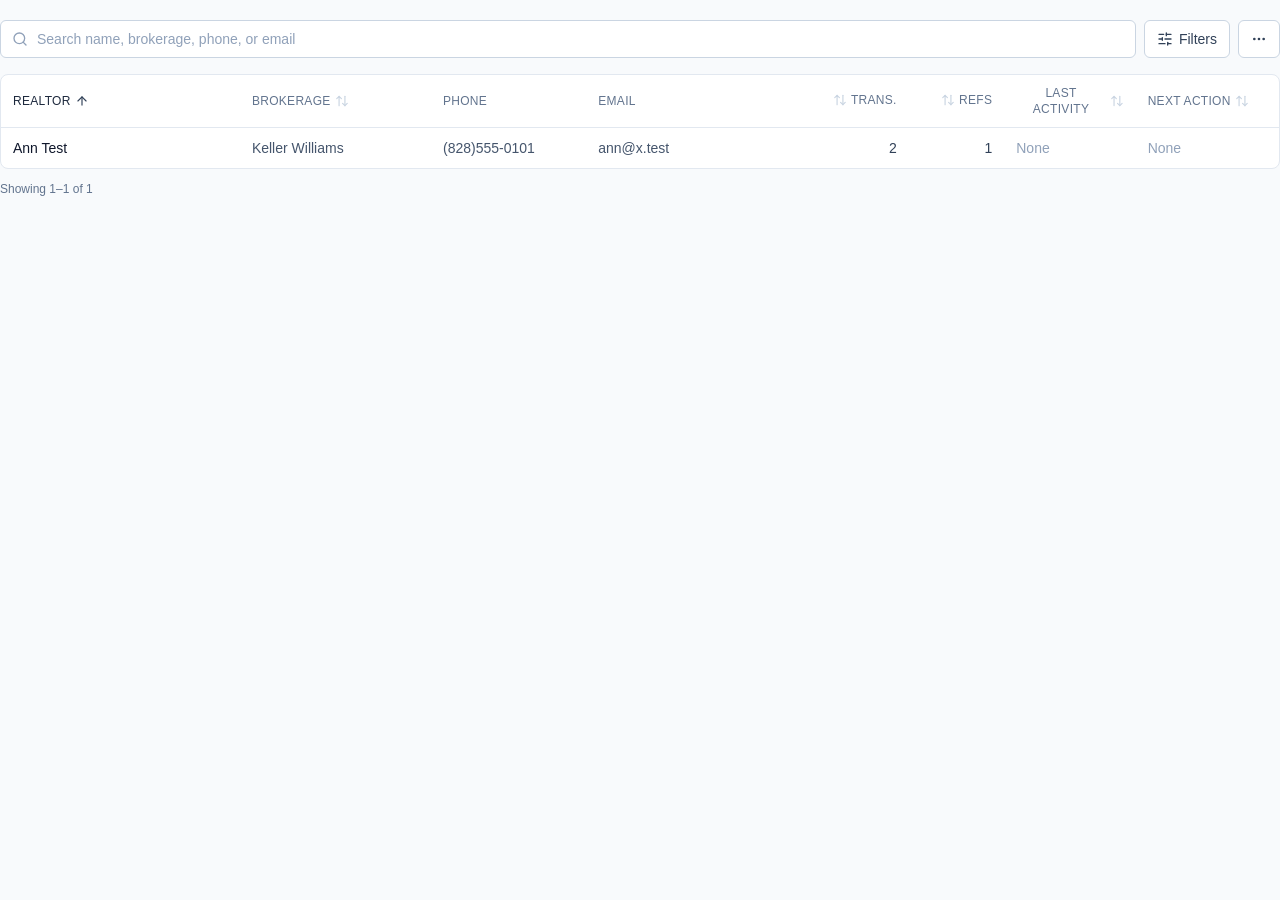
Scenario: customize directory layout › closes with Escape and returns focus to the ••• button
Click the button named "More directory options".
click(1259, 39)  # box 1238,20 -> 1279,58
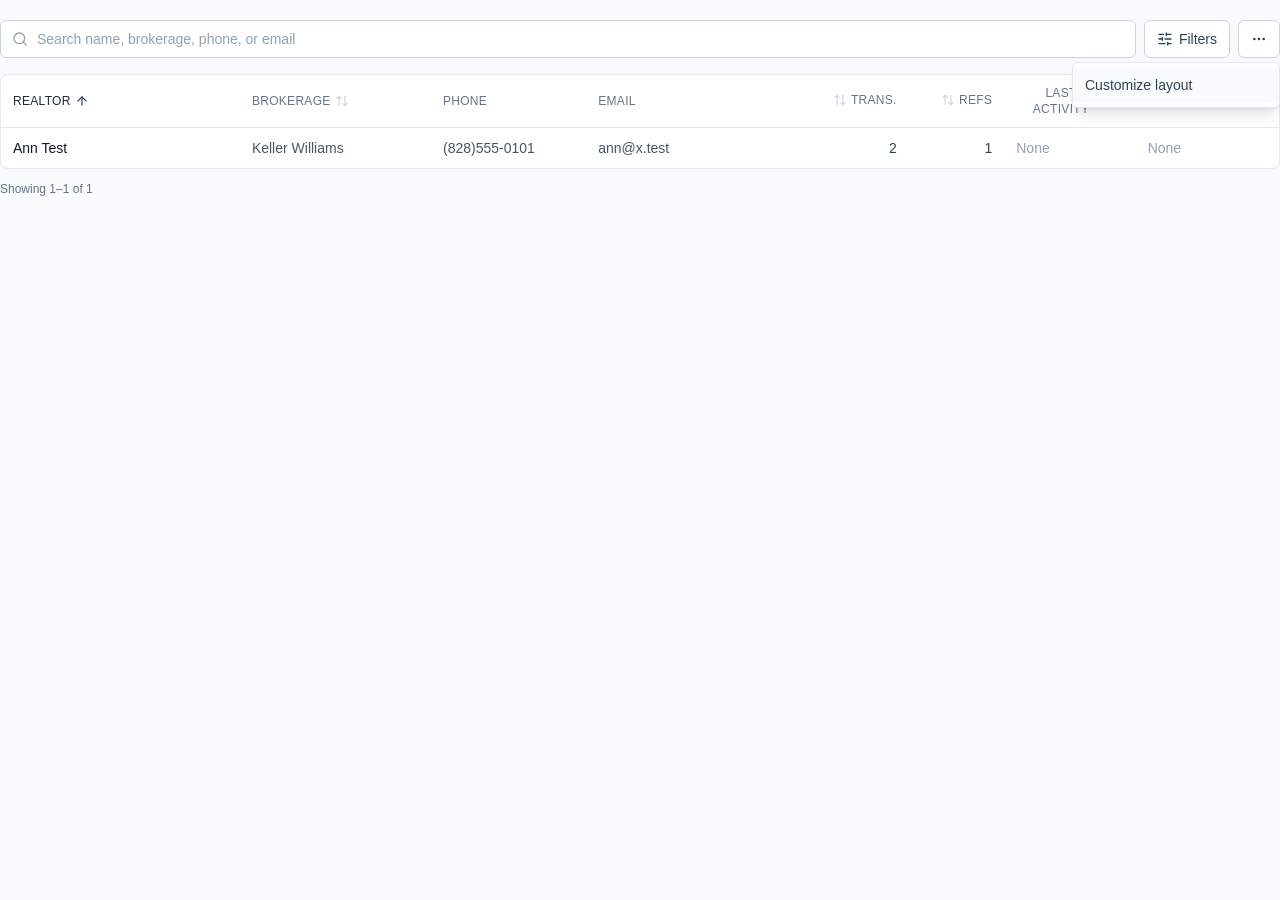
Click the menu item "Customize layout".
click(1176, 85)  # box 1073,67 -> 1279,103
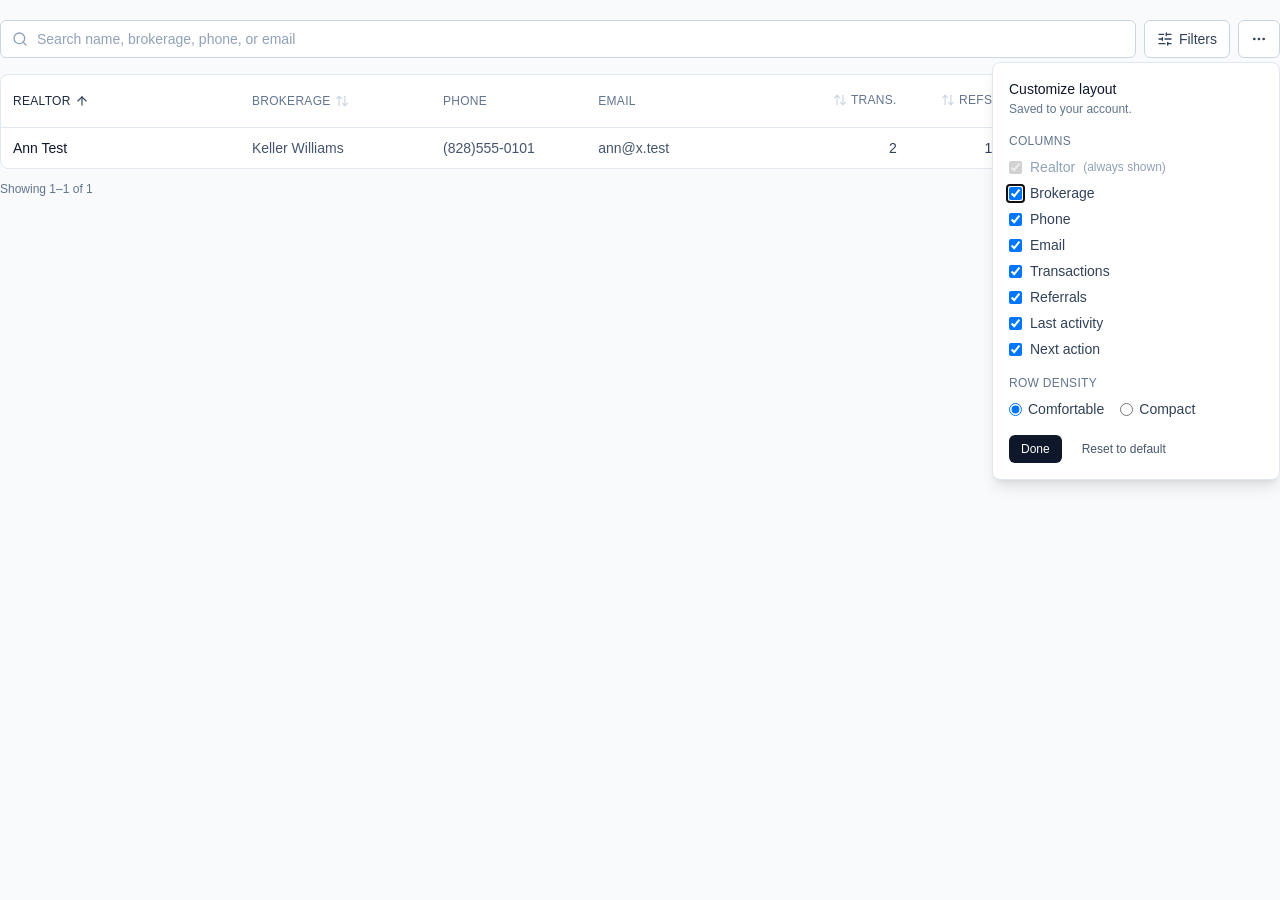
Press Escape
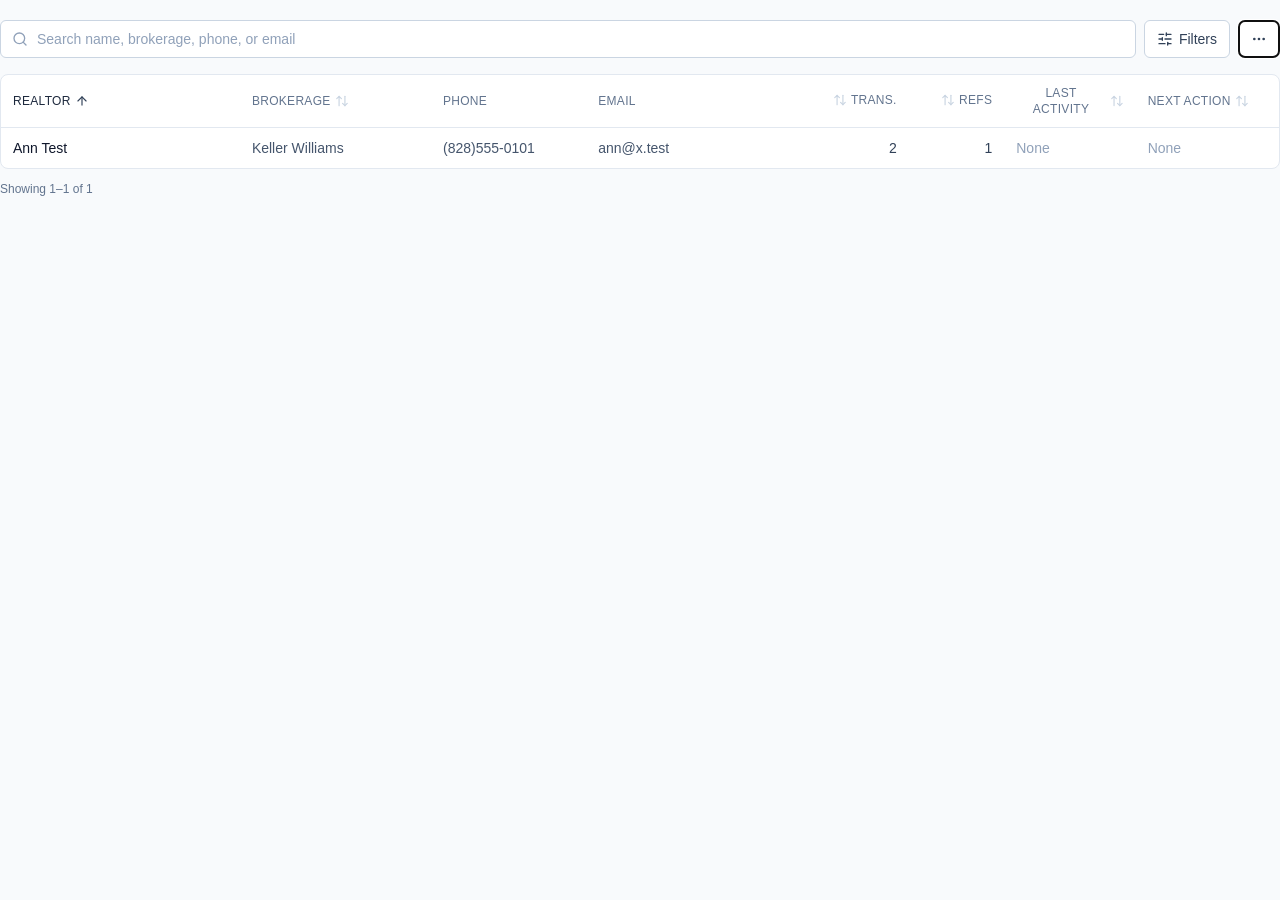
expect the heading "Customize layout" is gone: met
